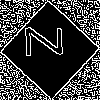Z: (25, 25, 72, 57)
